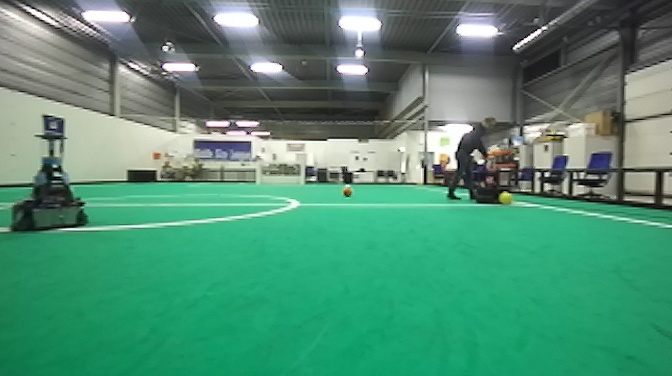ball: (498, 190, 513, 206), (341, 185, 355, 200)
goal: (256, 160, 307, 186)
goalpost: (300, 162, 306, 188), (255, 162, 261, 186)
human: (445, 114, 499, 202)
robot: (6, 110, 92, 236), (475, 154, 508, 206)
